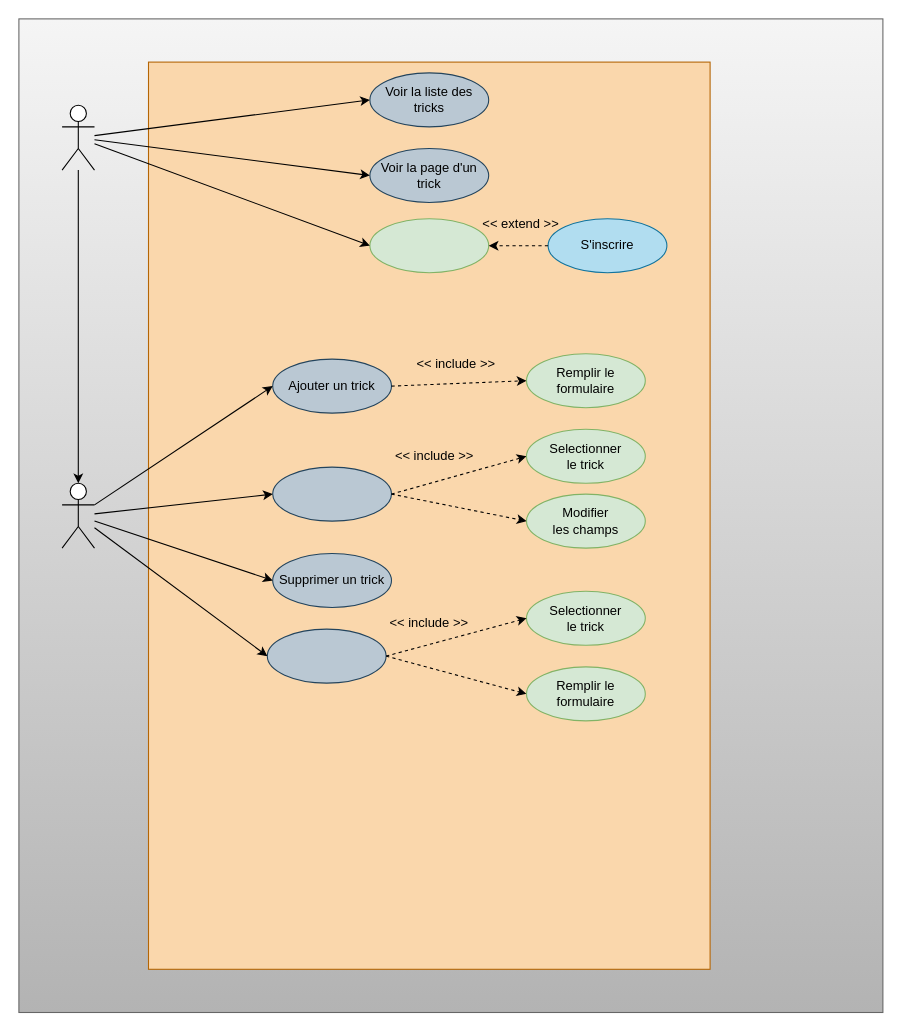
The diagram is 902 pixels wide and 1031 high, and some of its shapes have lost their labels. Here are the shapes that lost their labels. From the top down, the centre of each, then its label:
the point at 77,137: Visiteur
the point at 429,245: Se connecter
the point at 332,493: Modifier un trick
the point at 77,515: Visiteur Connecté
the point at 326,655: Ajouter un commentaire
